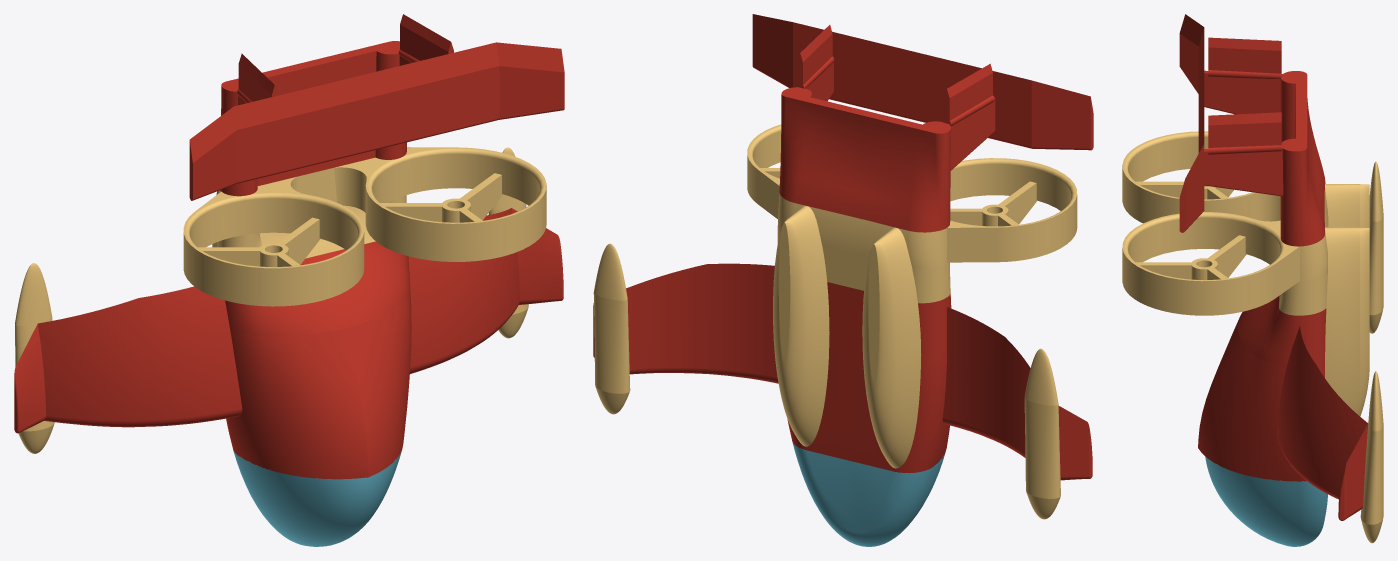
File: BulochkaV13.fbx
3 views of the same model, side by side, from view 1: azimuth 30°, elevation 25°; view 2: azimuth 150°, elevation 25°; view 3: azimuth 270°, elevation 25° (orthographic). The views are drawn at different scales.
Visible parts, largest first — view 1: Body6, Body2, Body17, Body8, Body10, Body1, Body7, Body16, Body19, Body5, Body18, Body14; view 2: Body17, Body7, Body6, Body10, Body2, Body11, Body8, Body12, Body1, Body14, Body16, Body5 (+2 smaller); view 3: Body6, Body2, Body10, Body17, Body12, Body7, Body1, Body19, Body18, Body14, Body16, Body11 (+1 smaller).
Part boxes in pixels (box(x1,y1,x2,y2)): Body6: box(183, 147, 546, 306); Body2: box(225, 241, 411, 479); Body17: box(189, 42, 564, 200); Body8: box(14, 286, 242, 433); Body10: box(408, 208, 563, 373); Body1: box(233, 450, 401, 546); Body7: box(220, 41, 406, 196); Body16: box(15, 263, 54, 453); Body19: box(398, 14, 453, 62); Body5: box(217, 195, 406, 258); Body18: box(237, 53, 277, 103); Body14: box(488, 147, 528, 338); Body17: box(752, 14, 1093, 170); Body7: box(779, 87, 951, 232); Body6: box(747, 124, 1077, 268); Body10: box(593, 263, 778, 383); Body2: box(787, 282, 951, 473); Body11: box(862, 227, 921, 468); Body8: box(942, 307, 1092, 480); Body12: box(773, 206, 829, 446); Body1: box(792, 442, 945, 546); Body14: box(593, 243, 630, 414); Body16: box(1024, 348, 1060, 519); Body5: box(777, 229, 950, 303); Body6: box(1122, 131, 1328, 315); Body2: box(1198, 296, 1326, 481); Body10: box(1277, 326, 1368, 520); Body17: box(1179, 14, 1283, 232); Body12: box(1325, 227, 1369, 416); Body7: box(1280, 71, 1324, 246); Body1: box(1205, 456, 1327, 546); Body19: box(1208, 112, 1281, 154); Body18: box(1208, 37, 1281, 79); Body14: box(1360, 371, 1383, 543); Body16: box(1369, 161, 1383, 333); Body11: box(1325, 184, 1369, 227).
Bounding box in the file's own units: 300 × 270 × 137.
